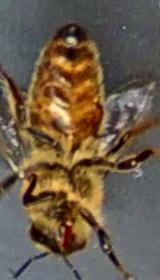varroa_mite: (77, 105, 107, 127)
